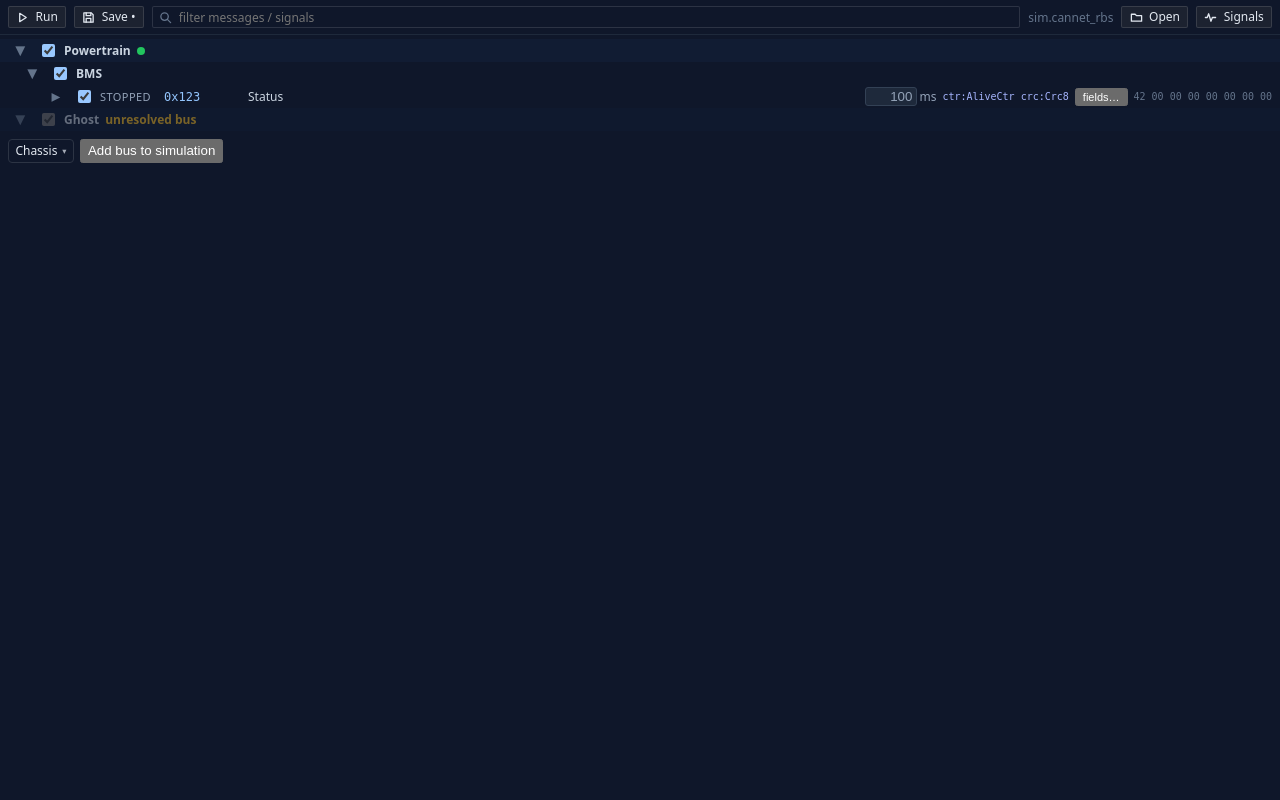
Scenario: RbsPanel (thin view over the host RBS model) › dismisses the signal context menu on an outside click, and an inside click doesn't leak through
Click the button named "toggle 0x123".
click(56, 96)  # box [44,87,68,105]
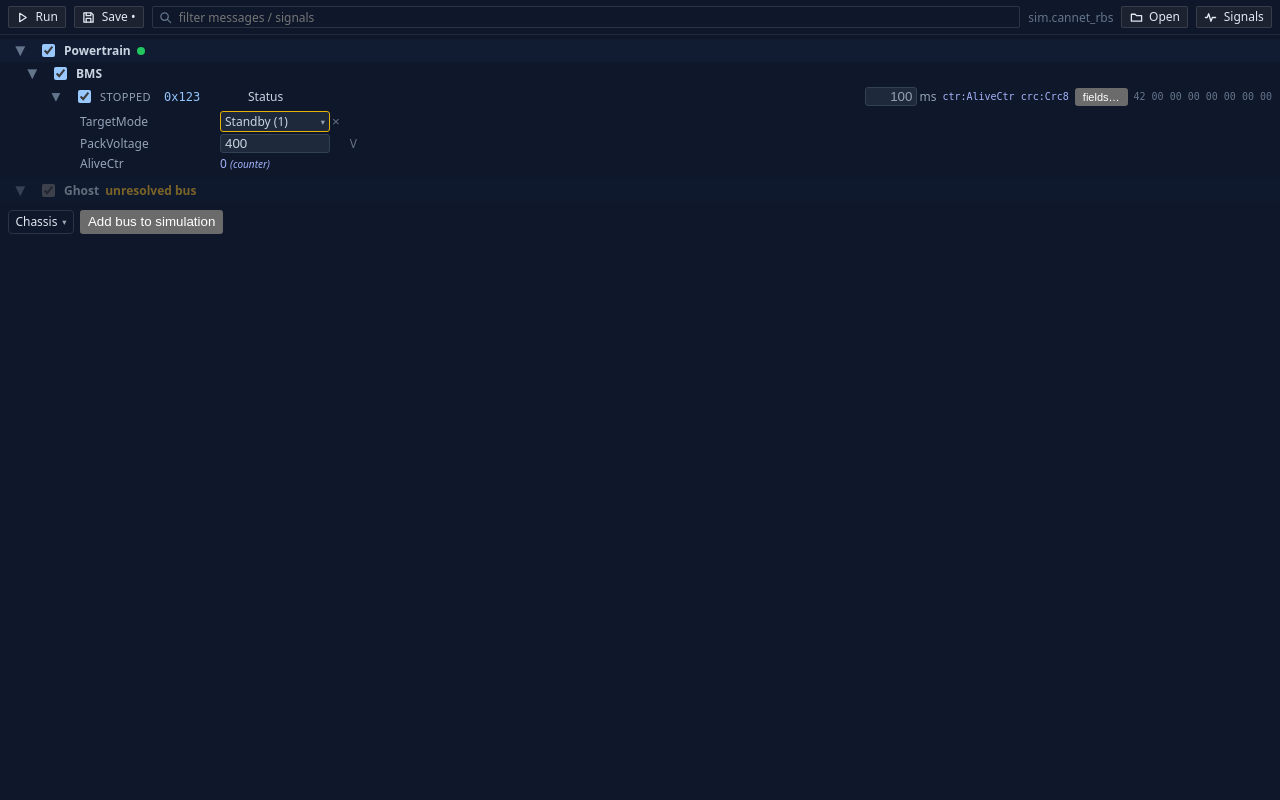
Right-click the text "AliveCtr".
right_click(102, 164)  # box [80,154,220,173]
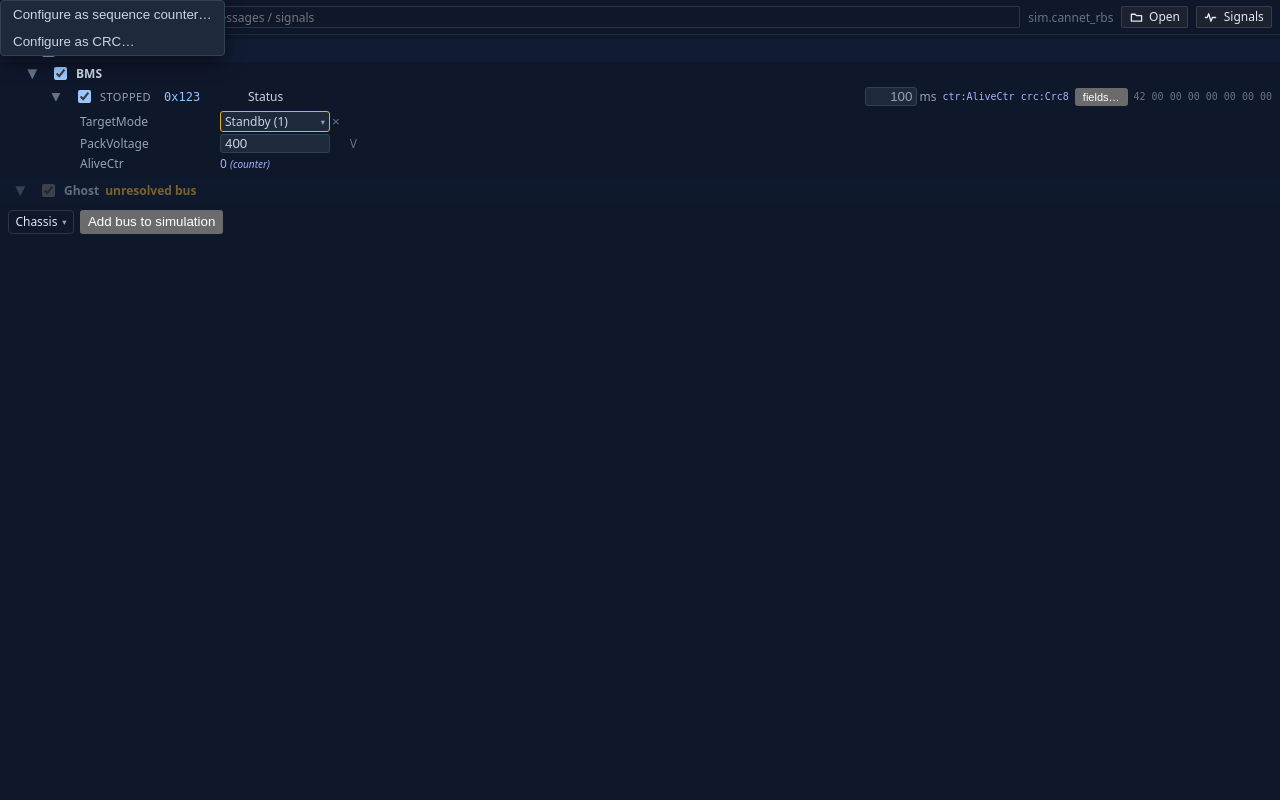
Press the mouse on the button "Configure as sequence counter…" at (112, 14), box [1,1,224,28]
expect the button "Configure as sequence counter…" is shown: met
Click the button "Configure as sequence counter…".
click(112, 14)  # box [1,1,224,28]
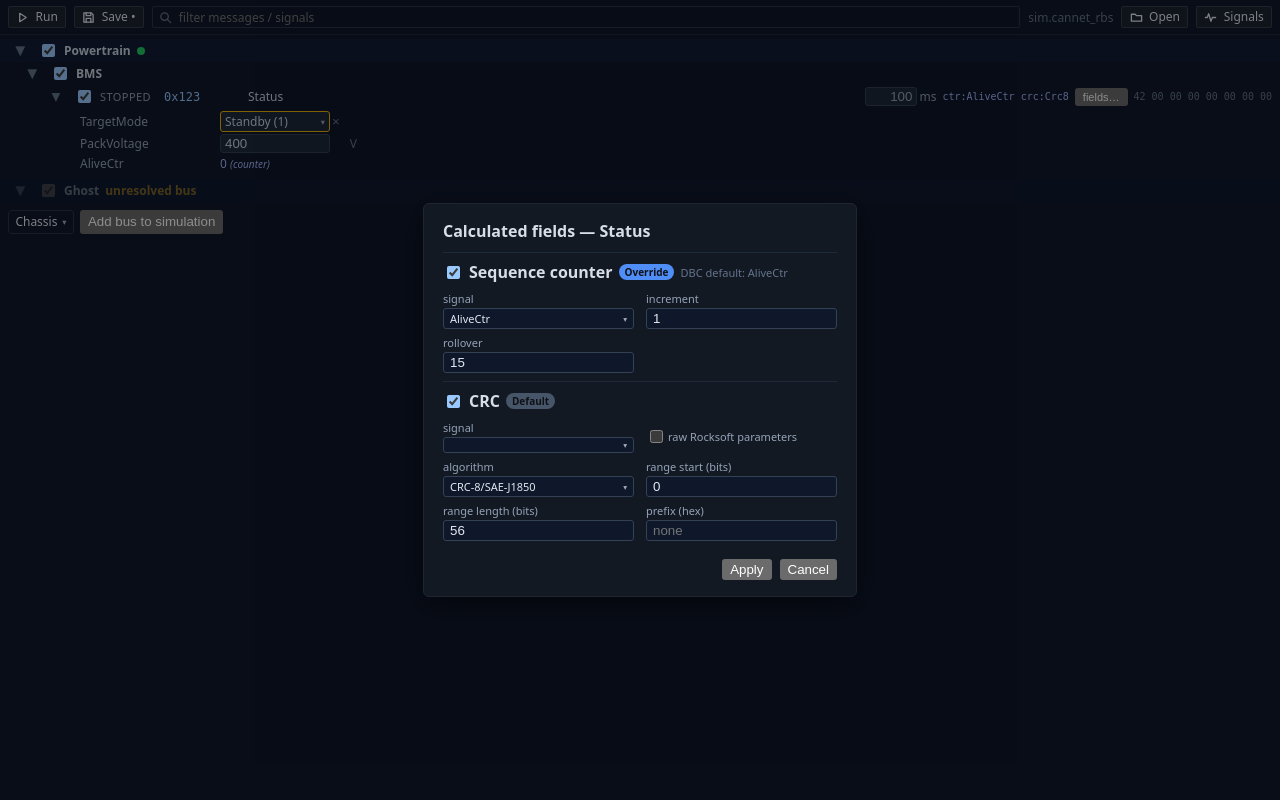
expect the text "Calculated fields — Status" is shown: met, box [443,220,650,242]
